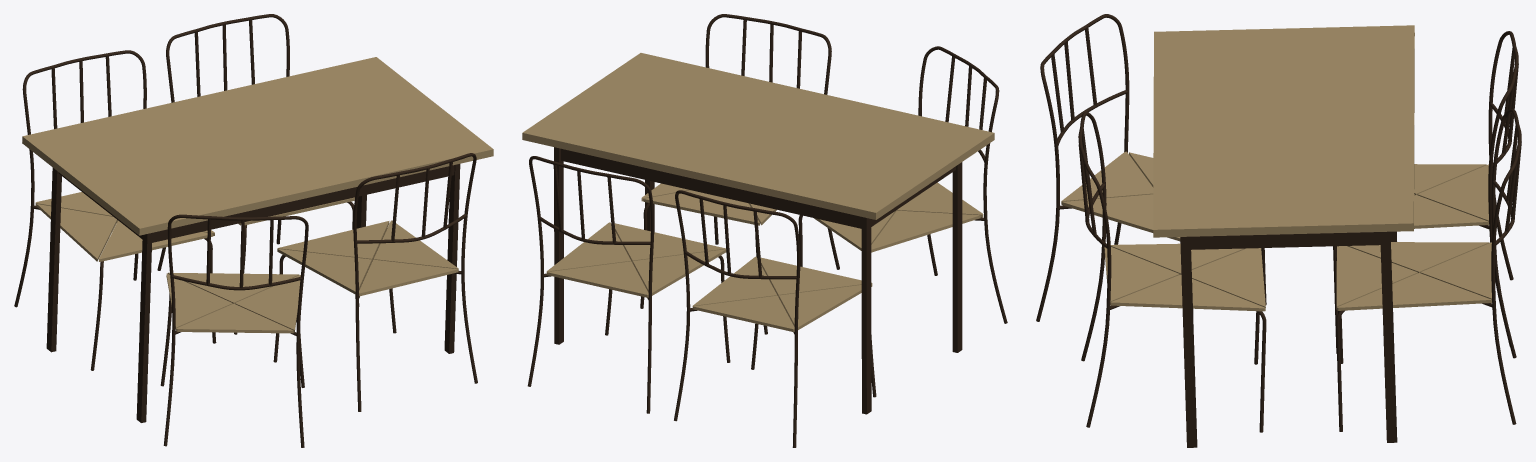
Rendered from IKEA-Antnas_Table_And_4_Chairs-3D.obj.
The picture shows the model from 3 angles, left to right: view 1: azimuth 30°, elevation 25°; view 2: azimuth 150°, elevation 25°; view 3: azimuth 270°, elevation 25°; orthographic projection. The views are drawn at different scales.
Parts seen in each view (by area): view 1: Box02, Object04, Object03, Object02, Object01; view 2: Box02, Object02, Object01, Object03, Object04; view 3: Box02, Object01, Object04, Object03, Object02.
Boxes of the visible parts, bbox=[...] form: Box02: bbox=[22, 57, 493, 422]; Object04: bbox=[273, 153, 477, 411]; Object03: bbox=[160, 214, 308, 447]; Object02: bbox=[14, 50, 216, 370]; Object01: bbox=[157, 14, 359, 334]; Box02: bbox=[522, 53, 994, 414]; Object02: bbox=[674, 190, 876, 447]; Object01: bbox=[527, 156, 730, 413]; Object03: bbox=[798, 46, 1007, 323]; Object04: bbox=[640, 14, 839, 334]; Box02: bbox=[1153, 25, 1414, 447]; Object01: bbox=[1336, 109, 1521, 431]; Object04: bbox=[1078, 112, 1266, 432]; Object03: bbox=[1036, 14, 1266, 321]; Object02: bbox=[1333, 31, 1518, 353].
Bounding box in the file's own units: 130 × 84.67 × 140.
